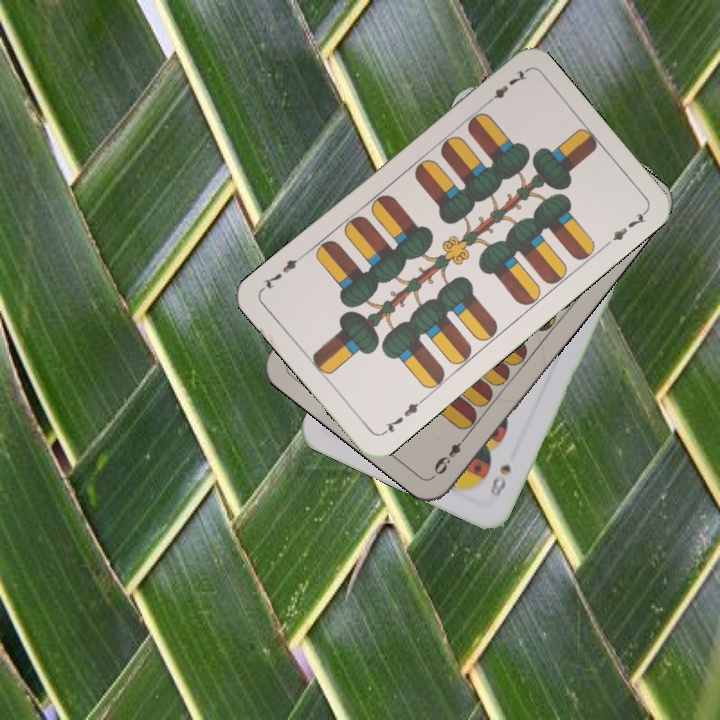E7: (378, 394, 427, 438), (480, 65, 529, 109)
E9: (429, 429, 471, 478)
S8: (486, 460, 514, 500)
